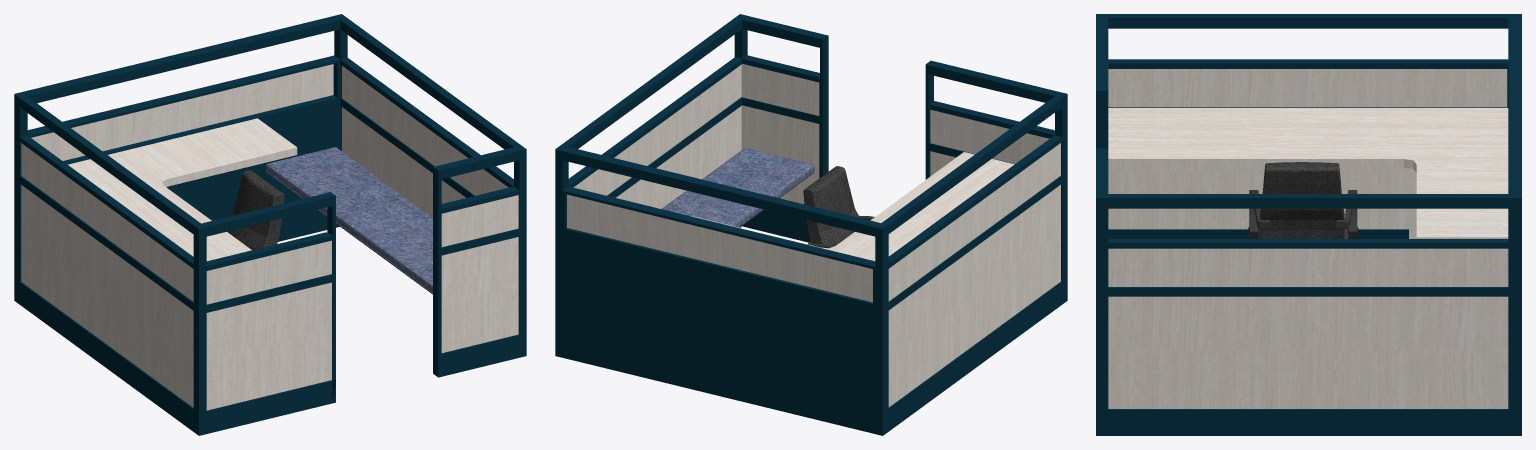
Rendered from CK-zhuozi0007-CJBZ.FBX.
The picture shows the model from 3 angles, left to right: view 1: azimuth 30°, elevation 25°; view 2: azimuth 150°, elevation 25°; view 3: azimuth 270°, elevation 25°; orthographic projection. The views are drawn at different scales.
Parts seen in each view (by area): view 1: CK-zhuozi0007-CJBZ; view 2: CK-zhuozi0007-CJBZ; view 3: CK-zhuozi0007-CJBZ.
Boxes of the visible parts, box(x1,y1,x2,y2) form: CK-zhuozi0007-CJBZ: box(14, 14, 526, 435); CK-zhuozi0007-CJBZ: box(555, 14, 1067, 435); CK-zhuozi0007-CJBZ: box(1096, 14, 1521, 435).
Size of the model in its own units: 2.3 by 1.38 by 2.25.
6 materials, 3 textured.
